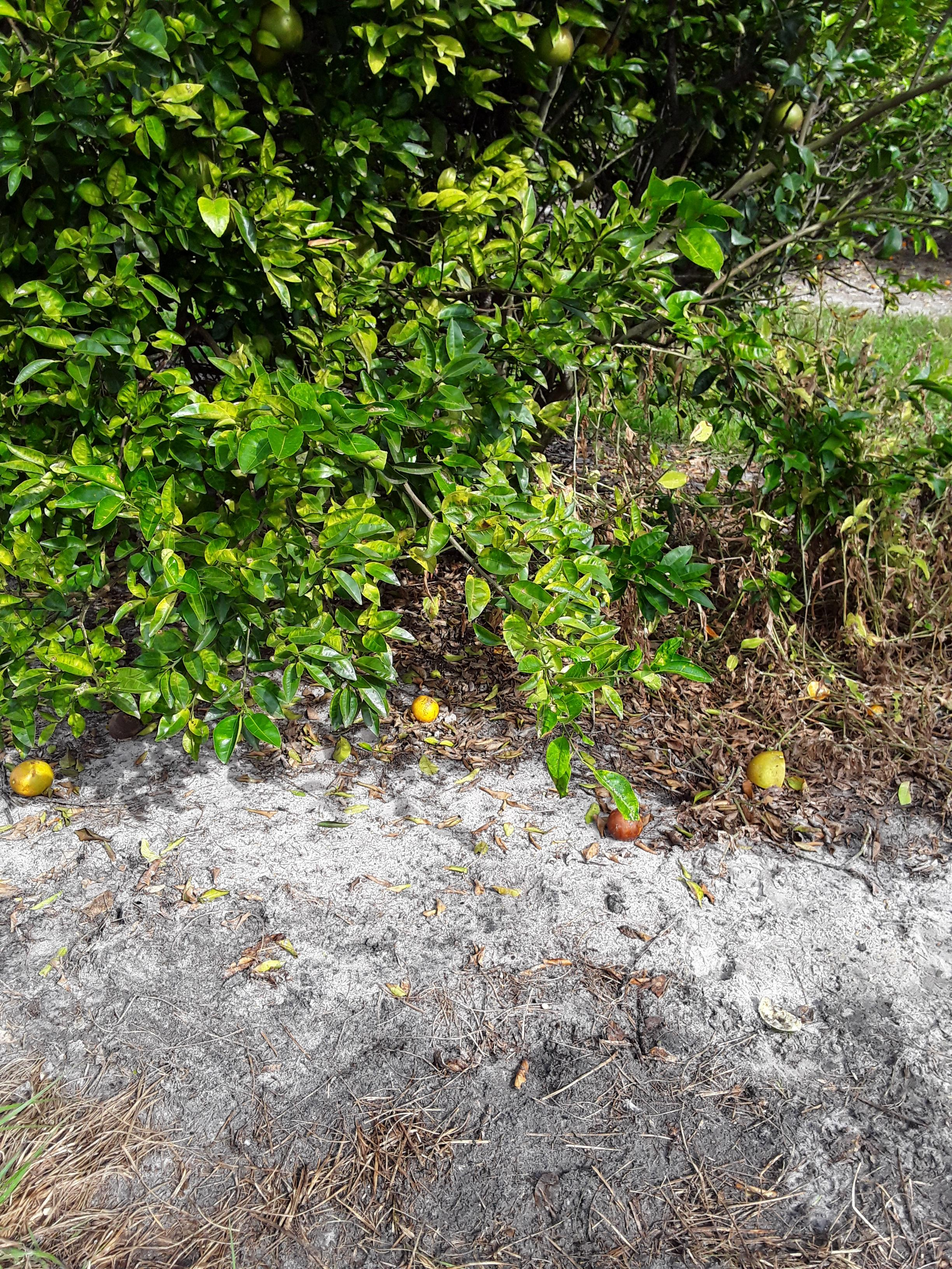fruit_on_ground: (254, 1, 308, 53), (530, 20, 578, 69), (240, 31, 286, 77), (579, 17, 626, 60), (765, 96, 808, 136), (564, 166, 599, 201)
fruit_on_tree: (4, 753, 56, 802), (744, 746, 791, 794), (602, 805, 646, 843), (104, 708, 147, 743), (407, 690, 443, 728), (803, 675, 835, 704), (864, 699, 889, 720), (941, 276, 951, 289)
